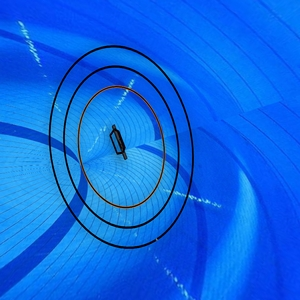circle: (48, 42, 202, 253)
submarine: (105, 121, 132, 164)
